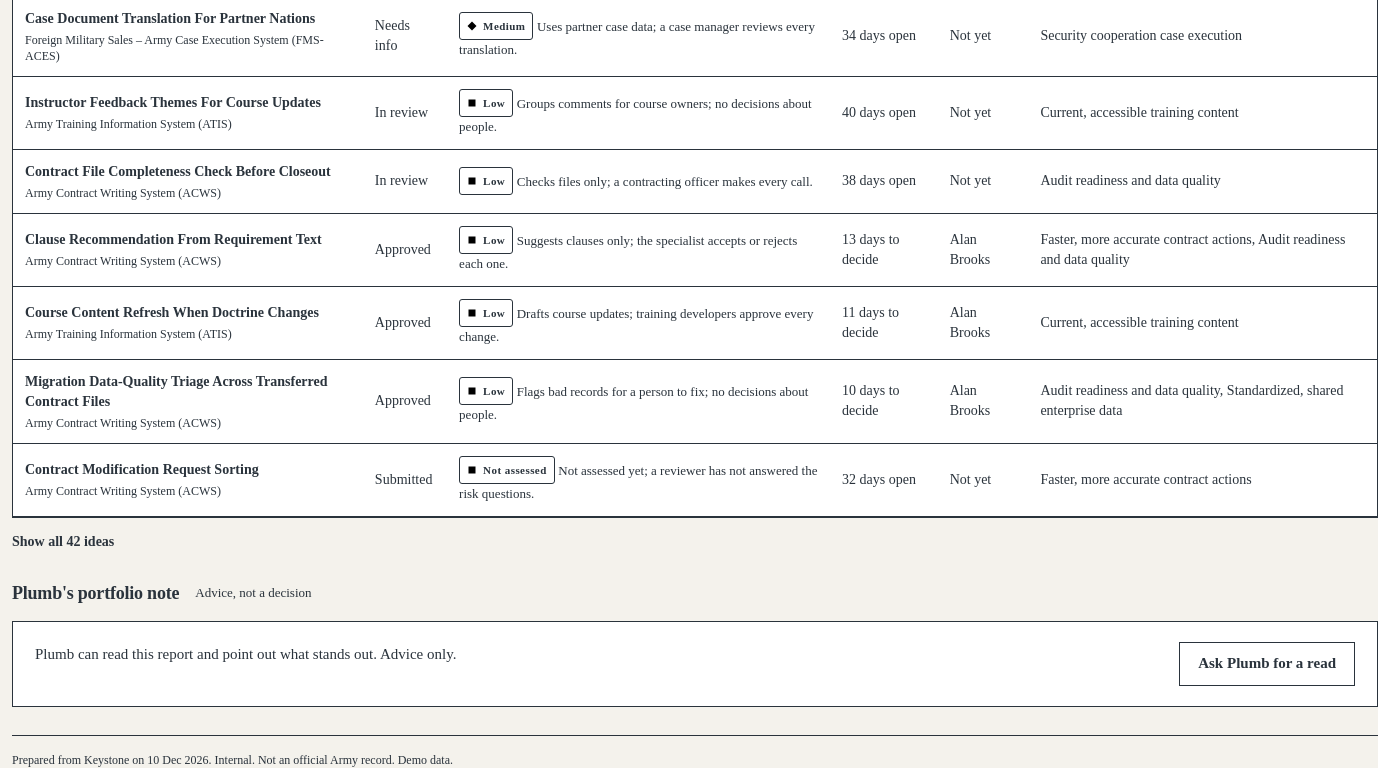
Test: Plumb's read on /report is written on a button press › when the note is not available, says so, keeps the numbers, and Try again asks again
The image size is (1378, 768).
(page scrolled)
What coordinates should you click on to do the following:
click the button "Ask Plumb for a read"
I would click on:
 (1267, 664)
Its box is [1179,642,1355,686].
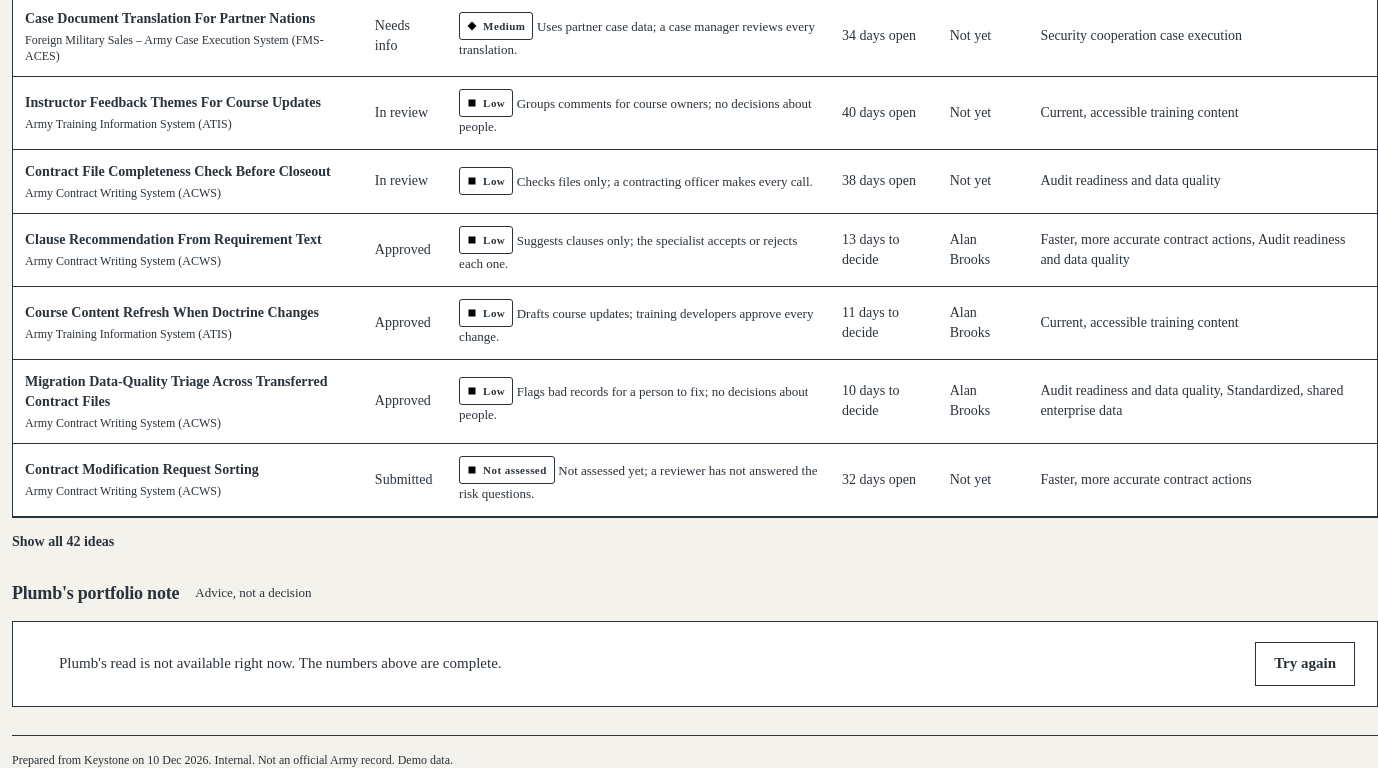
Check: the element named "Plumb" shows "Plumb's read is not available right now. The numbers above are complete.", box [59,655,502,671]
What coordinates should you click on to do the following:
click the button "Try again"
I would click on:
 (1305, 664)
Its box is [1255,642,1355,686].
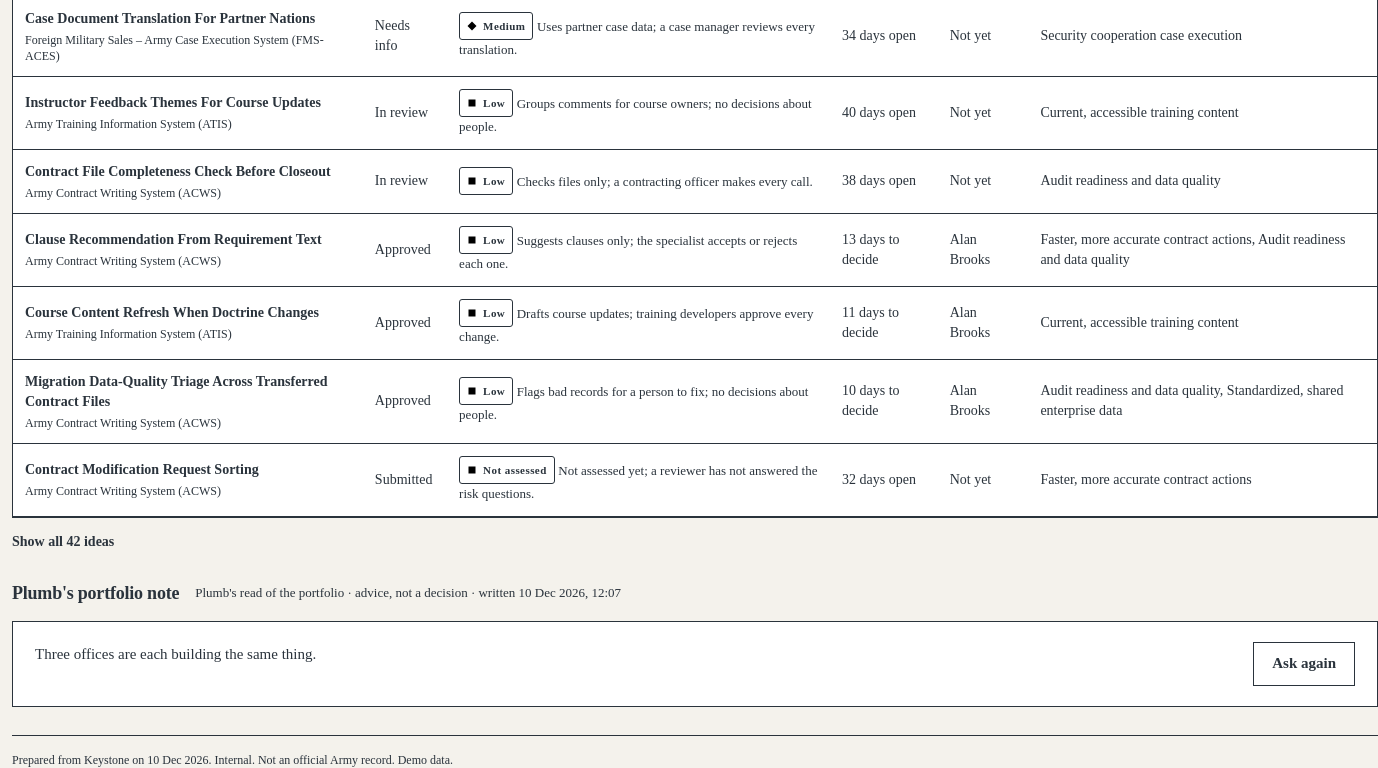
Check: the element named "Plumb" shows "Three offices are each building the same thing.", box [35,646,316,662]
